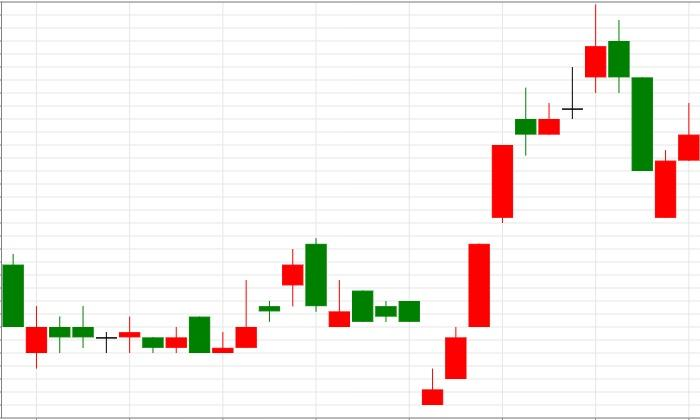bearish_engulfing_fall: (189, 237, 327, 353)
shooting_star_fall: (421, 4, 606, 405)
